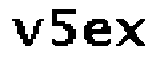5: (50, 6, 78, 49)
e: (83, 15, 112, 48)
v: (9, 16, 45, 51)
x: (116, 16, 146, 49)
